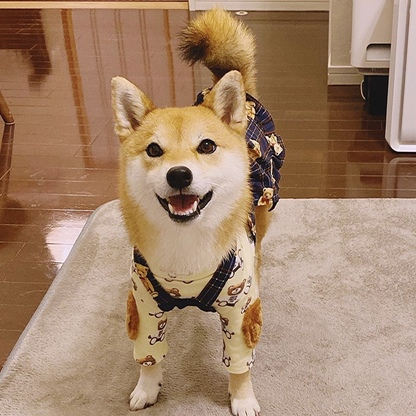shiba: (102, 3, 291, 416)
